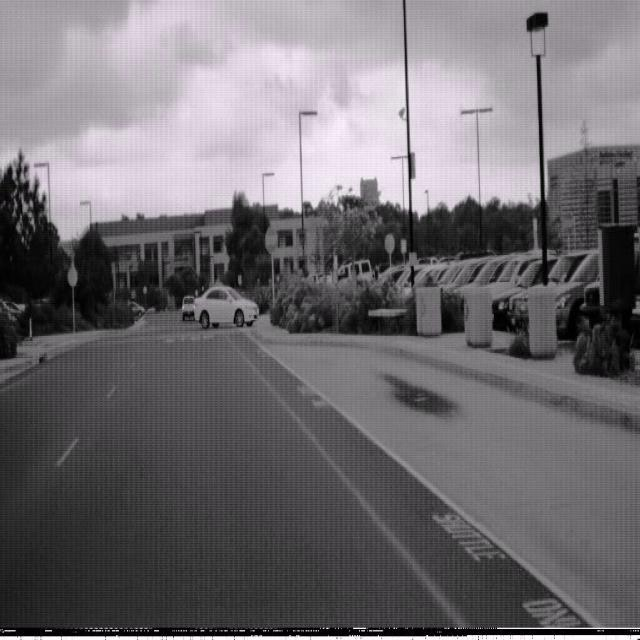stop_sign: (264, 224, 278, 254)
